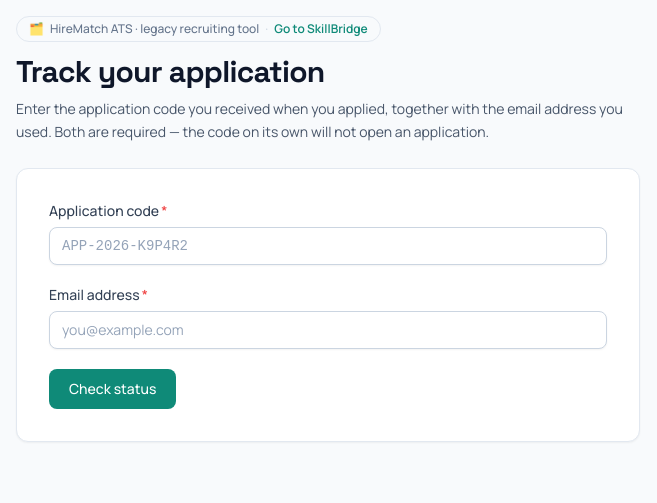
Scenario: TrackApplicationPage › requires both the code and the email
Click the button "Check status" at (113,388), box [49,368,176,408]
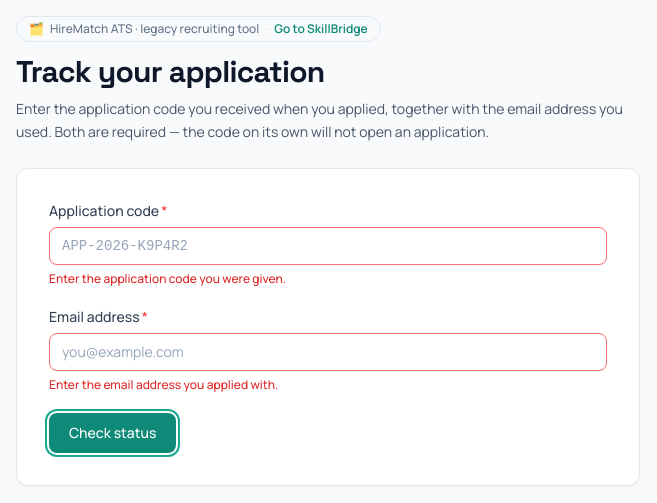
Expected: the text "Enter the application code you were given." is shown, [49,270,286,286]
Expected: the text "Enter the email address you applied with." is shown, [49,376,278,392]
